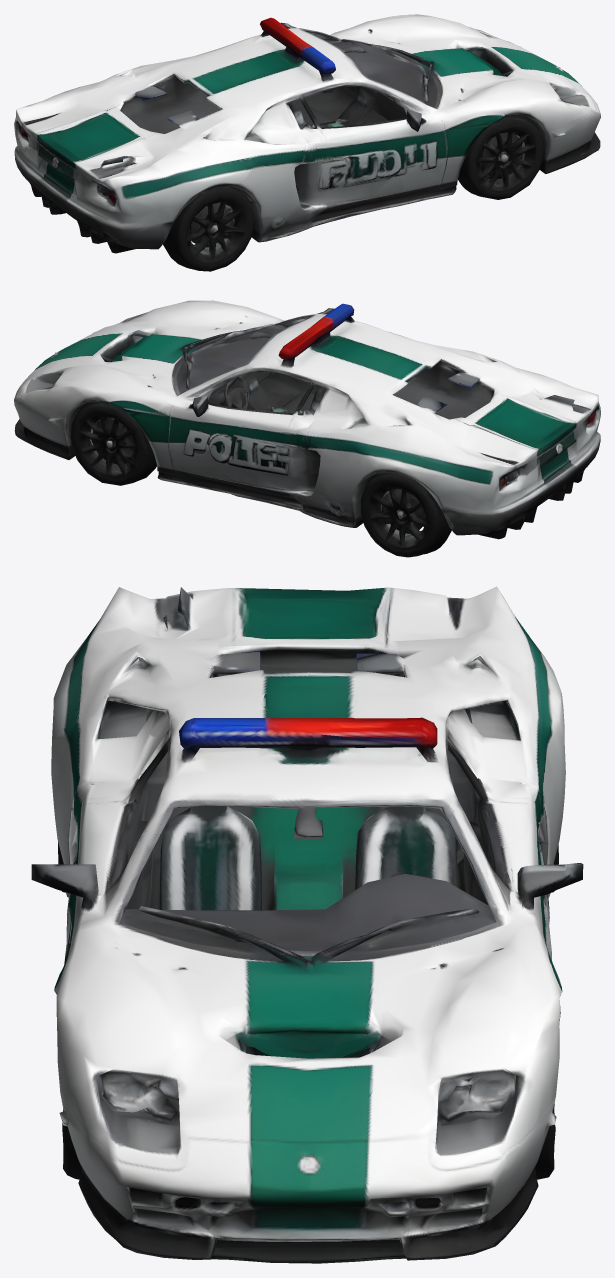
Rendered from dxb_lambo.glb.
3 renders of one model, top to bottom at view 1: azimuth 30°, elevation 25°; view 2: azimuth 150°, elevation 25°; view 3: azimuth 270°, elevation 25°, orthographic. The views are drawn at different scales.
Visible parts, largest first — view 1: tripo_node_35039f8f-5e43-46bc-86b6-882bae4def98; view 2: tripo_node_35039f8f-5e43-46bc-86b6-882bae4def98; view 3: tripo_node_35039f8f-5e43-46bc-86b6-882bae4def98.
Part boxes in pixels (bbox=[...]): tripo_node_35039f8f-5e43-46bc-86b6-882bae4def98: bbox=[14, 14, 600, 271]; tripo_node_35039f8f-5e43-46bc-86b6-882bae4def98: bbox=[14, 300, 600, 557]; tripo_node_35039f8f-5e43-46bc-86b6-882bae4def98: bbox=[31, 586, 583, 1263].
Size of the model in its own units: 1 by 0.2862 by 0.4592.
1 material, 1 textured.
